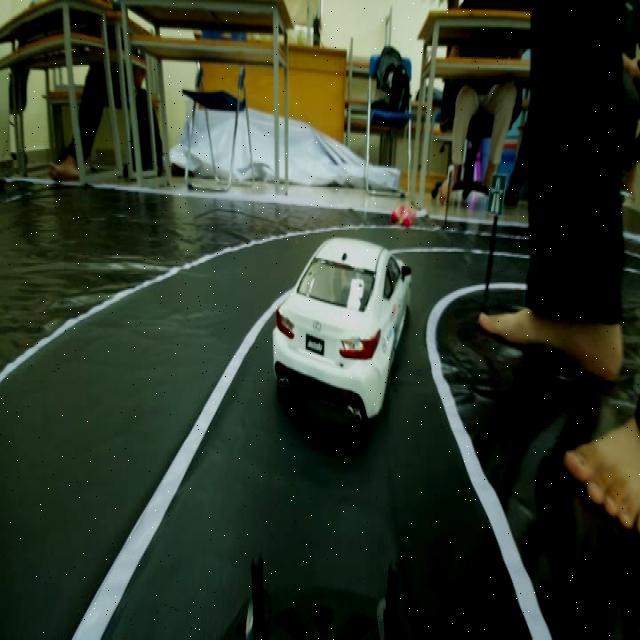car: (277, 222, 411, 431)
highway_entry: (484, 168, 508, 220)
